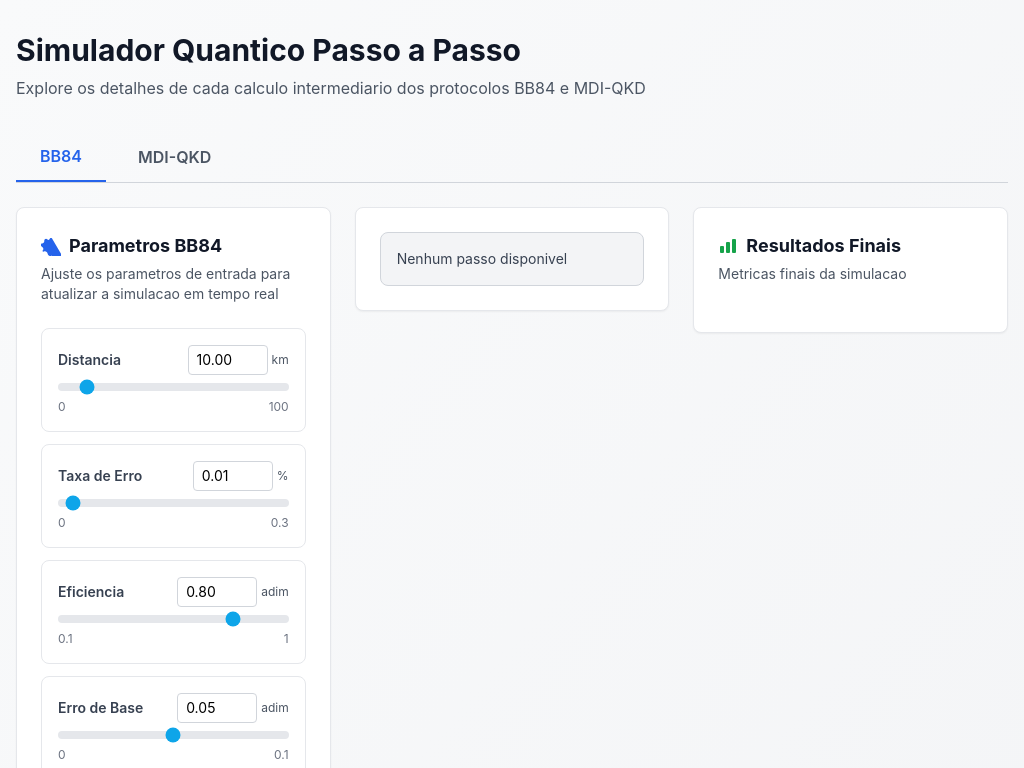
Scenario: StepByStepDashboard › updates parameter values when slider changes
The image size is (1024, 768).
Replace the text in the number field next to "km" with "50" at coordinates (228, 360), box x1=188 y1=345 x2=268 y2=375
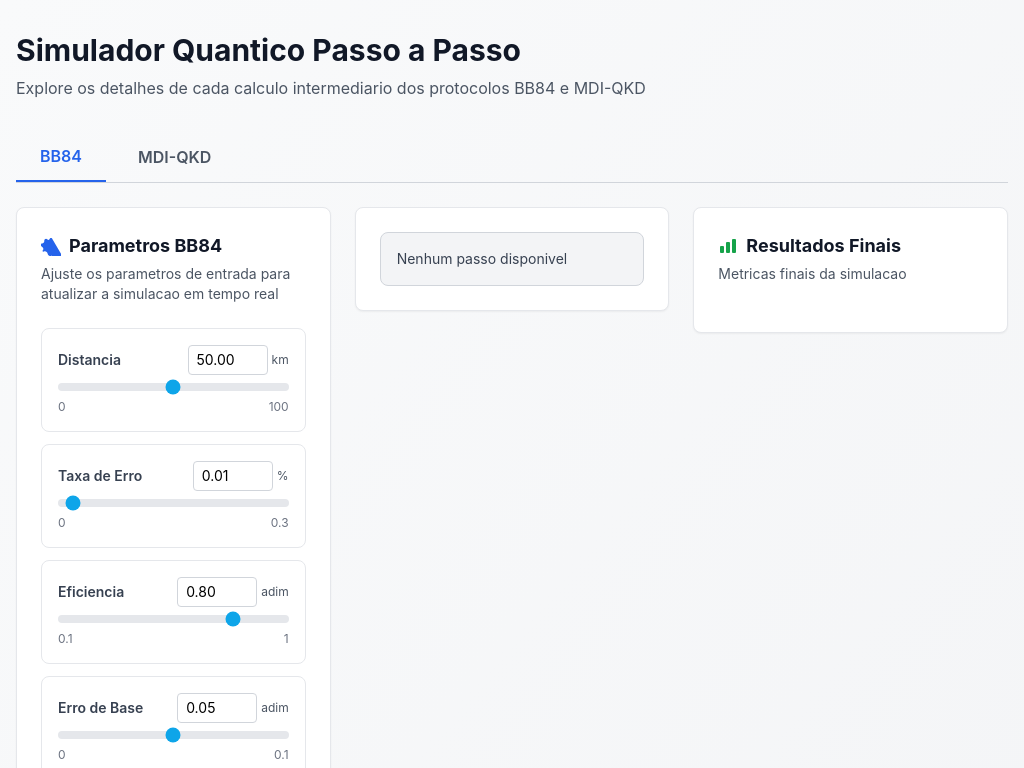
Check: the number field next to "km" holds "50", box x1=188 y1=345 x2=268 y2=375
